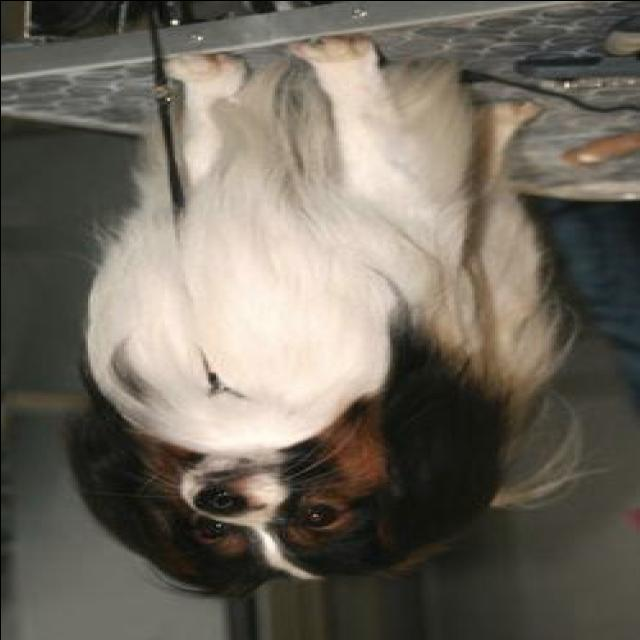husky: (77, 38, 571, 602)
